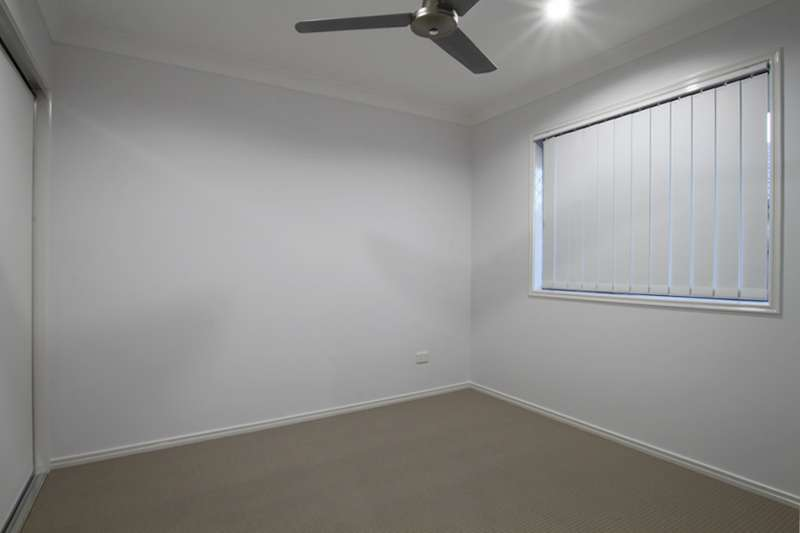ceiling fan: (274, 1, 526, 78)
